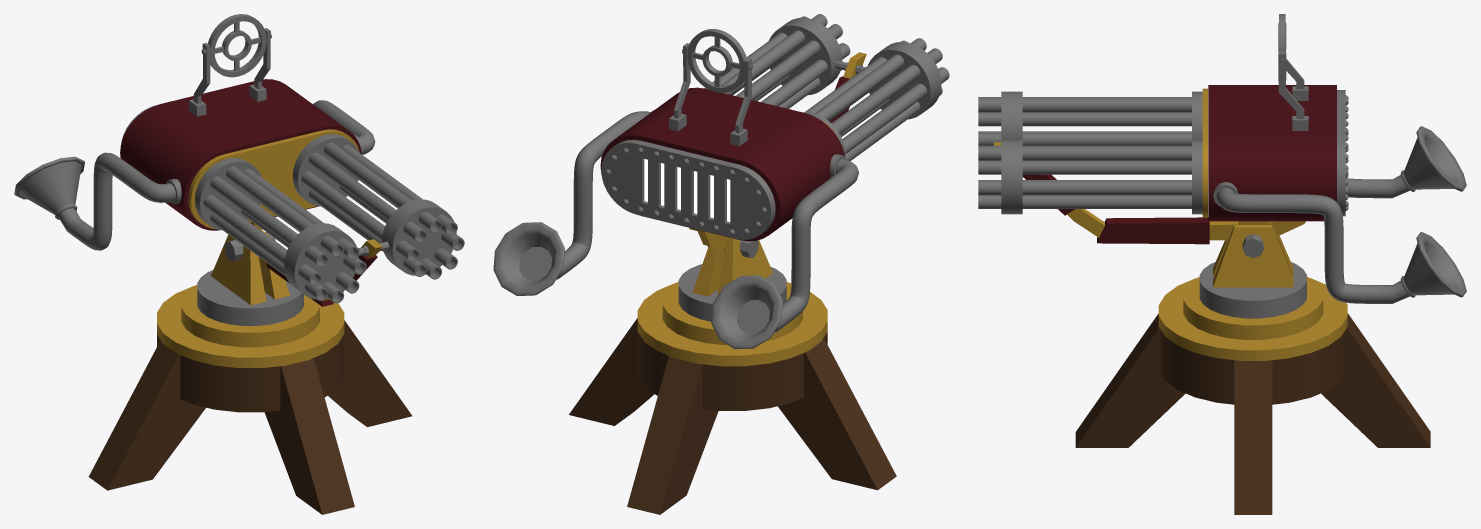
The model's file is Auto_Turret.fbx.
3 renders of one model, left to right at view 1: azimuth 30°, elevation 25°; view 2: azimuth 150°, elevation 25°; view 3: azimuth 270°, elevation 25°, orthographic.
Parts seen in each view (by area): view 1: Pes.003, Base.005, Corpo.005, Canos.002, Canos, baseCanos, Chamines, Cylinder.053, Mira, EixoQueGira, Mecanismo1, Mecanismo2; view 2: Pes.003, Chamines, Base.005, Corpo.005, Fornalha, Canos.002, Canos, baseCanos, Mira, Mecanismo1, EixoQueGira, Mecanismo2 (+1 smaller); view 3: Pes.003, Base.005, Corpo.005, Chamines, Canos, Canos.002, Mecanismo2, Mecanismo1, baseCanos, EixoQueGira, Mira, Fornalha (+1 smaller).
Boxes of the visible parts, x1,y1,x2,y2 form: Pes.003: (88, 320, 412, 514); Base.005: (157, 285, 344, 412); Corpo.005: (120, 79, 361, 230); Canos.002: (203, 166, 366, 303); Canos: (301, 142, 464, 279); baseCanos: (195, 134, 456, 299); Chamines: (14, 100, 375, 250); Cylinder.053: (188, 129, 359, 229); Mira: (189, 14, 271, 116); EixoQueGira: (197, 270, 303, 325); Mecanismo1: (211, 230, 290, 305); Mecanismo2: (251, 222, 389, 306); Pes.003: (569, 318, 896, 514); Chamines: (493, 110, 858, 349); Base.005: (637, 282, 827, 410); Corpo.005: (600, 87, 844, 241); Fornalha: (601, 139, 775, 239); Canos.002: (805, 38, 949, 161); Canos: (705, 14, 850, 108); baseCanos: (703, 17, 941, 156); Mira: (669, 29, 753, 146); Mecanismo1: (692, 237, 772, 296); EixoQueGira: (678, 264, 786, 321); Mecanismo2: (689, 52, 866, 249); Pes.003: (1075, 313, 1430, 514); Base.005: (1158, 277, 1347, 404); Corpo.005: (1208, 85, 1336, 221); Chamines: (1213, 126, 1466, 303); Canos: (978, 145, 1191, 208); Canos.002: (978, 97, 1191, 145); Mecanismo2: (994, 142, 1305, 244); Mecanismo1: (1213, 225, 1293, 287); baseCanos: (1001, 91, 1202, 214); EixoQueGira: (1199, 262, 1306, 318); Mira: (1278, 14, 1308, 130); Fornalha: (1337, 90, 1345, 216).
Bounding box in the file's own units: 200 × 263 × 275.
